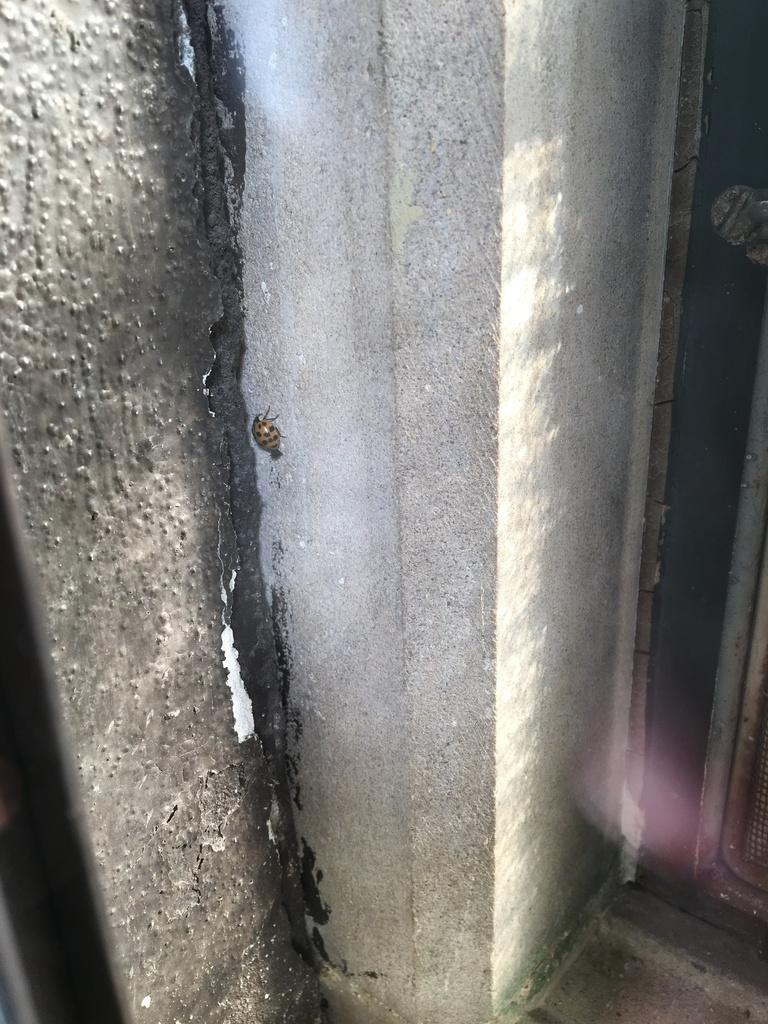ladybug: (252, 407, 291, 461)
